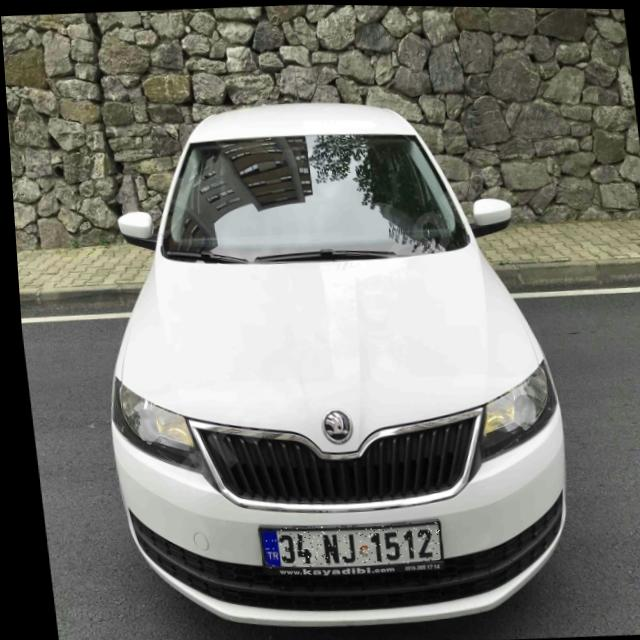license_plate: (253, 519, 436, 570)
